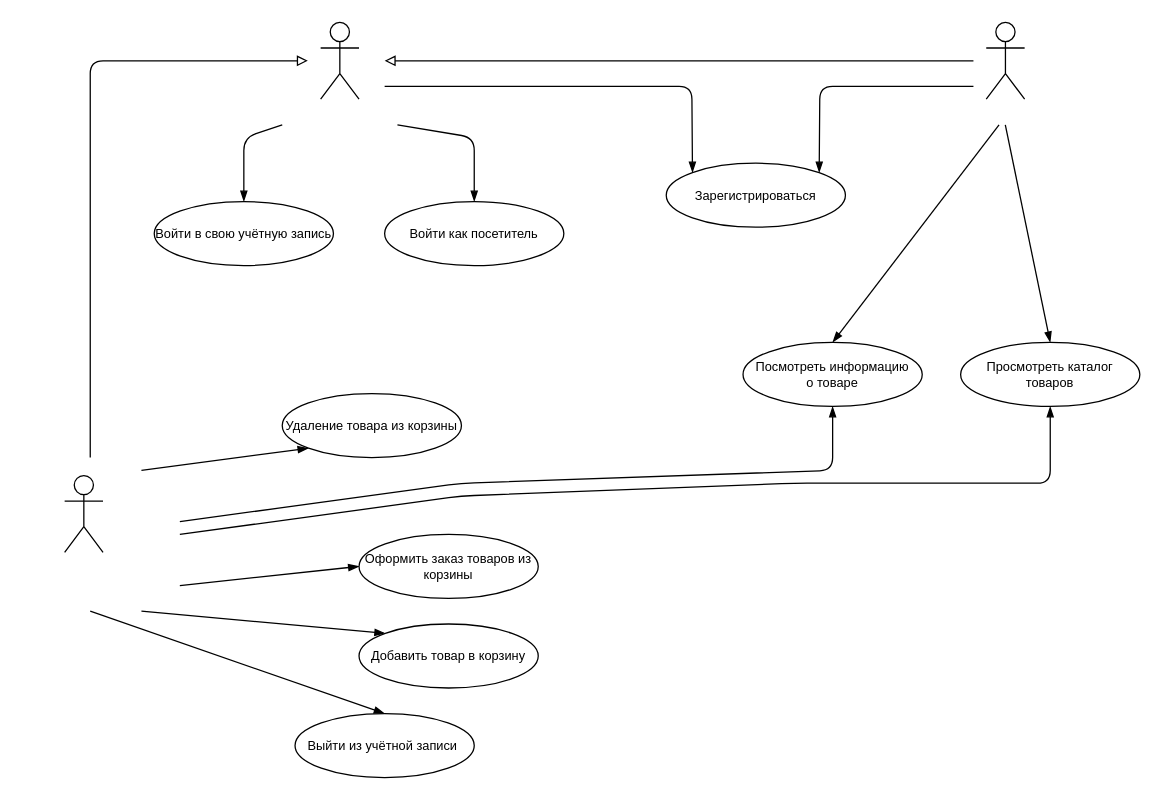
Image size: 1162x800. Some labels were removed from this diagram. Here are the shapes that lost their labels. From the top down, the centre of each, then its label:
the point at 339,60: Пользователь
the point at 1005,60: Посетитель
the point at 83,513: Зарегистрированный пользователь
